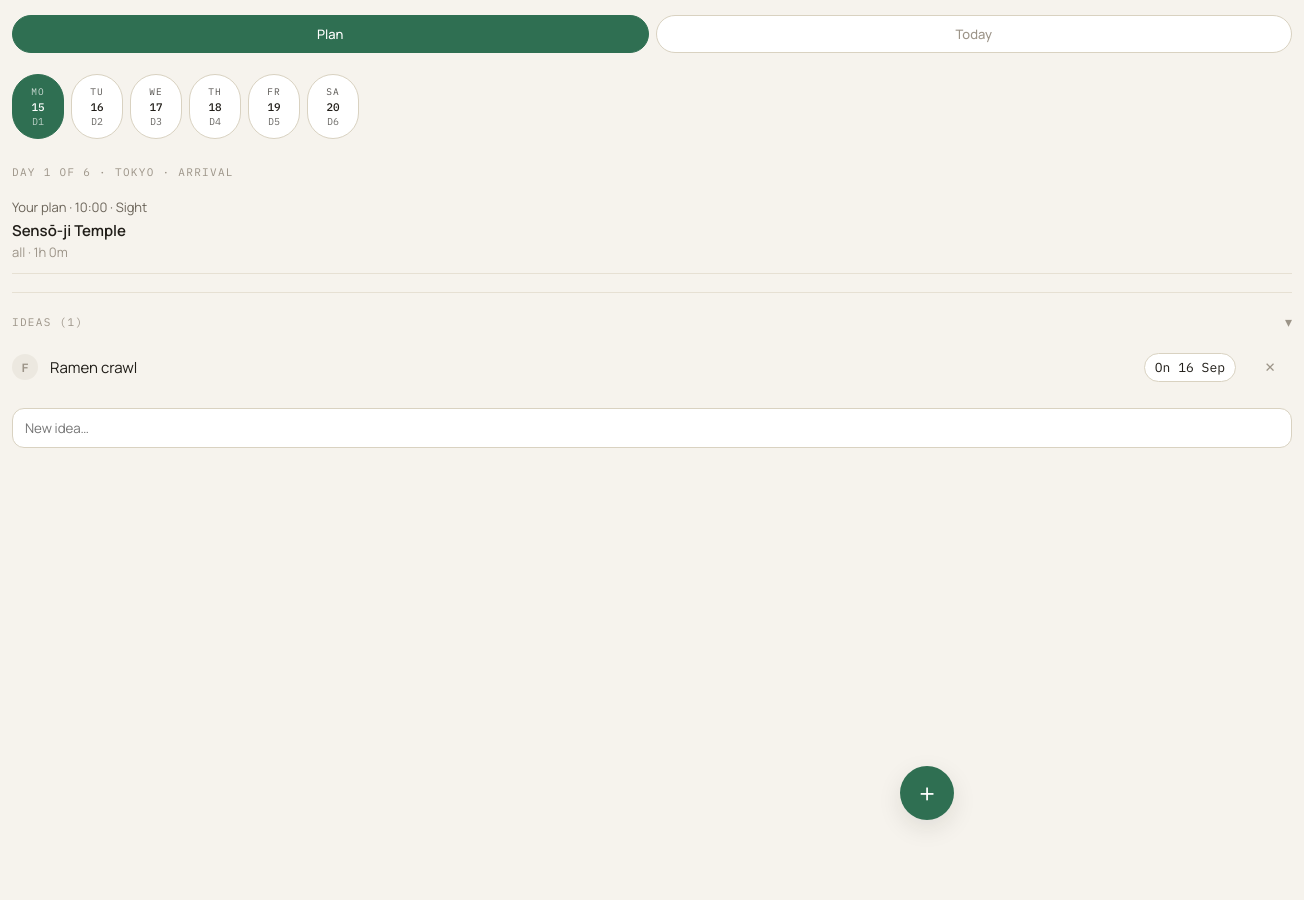
Scenario: ItineraryTab — Idea assignment obeys the same Stop validation as manual Stop creation › 1. a valid Idea on a valid day is assigned: the Stop is created and the Idea is removed
The image size is (1304, 900).
Step 1. Click the button "On 16 Sep" → (1190, 367), box [1144,352,1236,382]
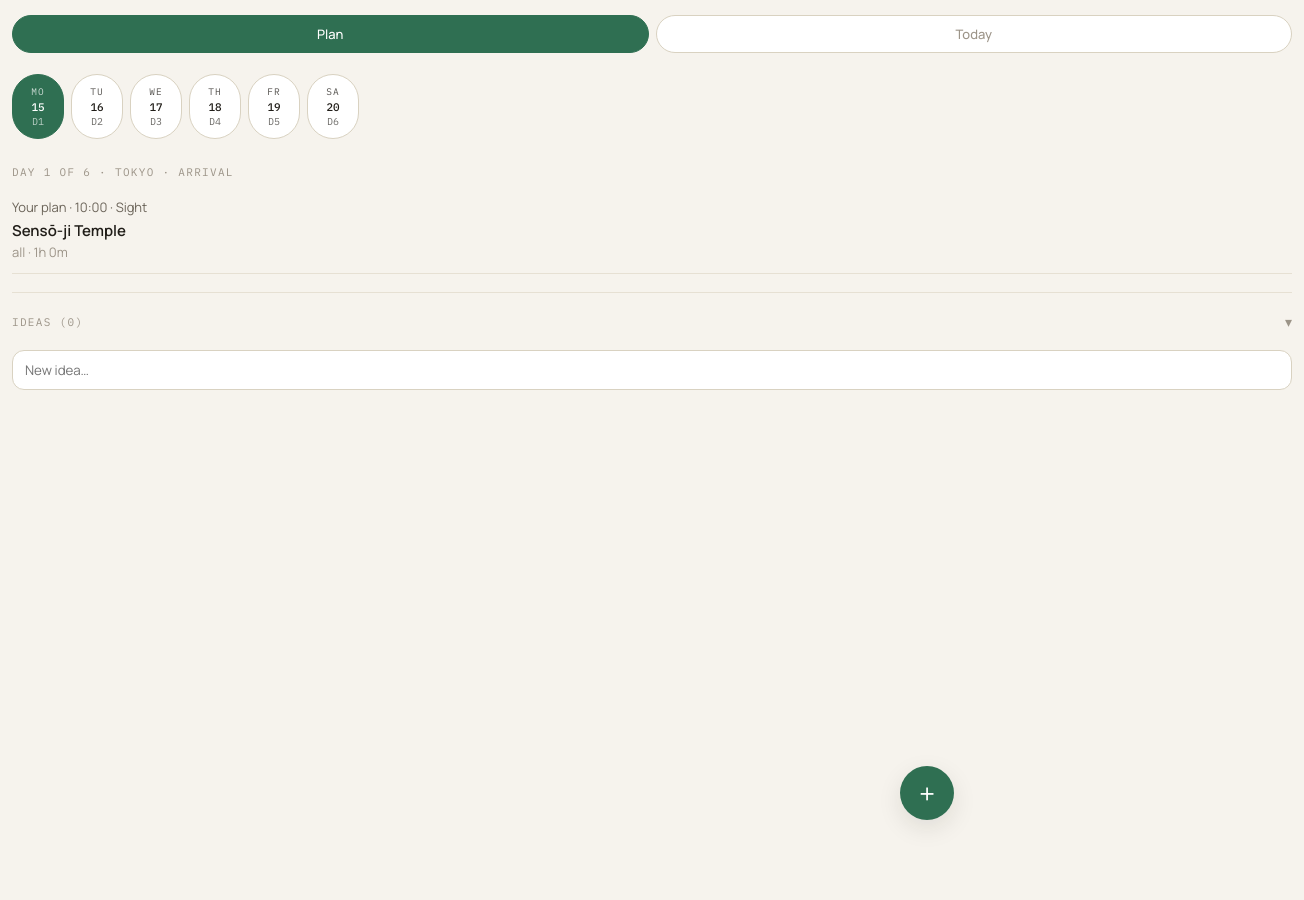
Expected: the text "Ramen crawl" is gone
Step 2. Click the tab "Tu 16 D2" → (97, 106), box [71,74,123,139]
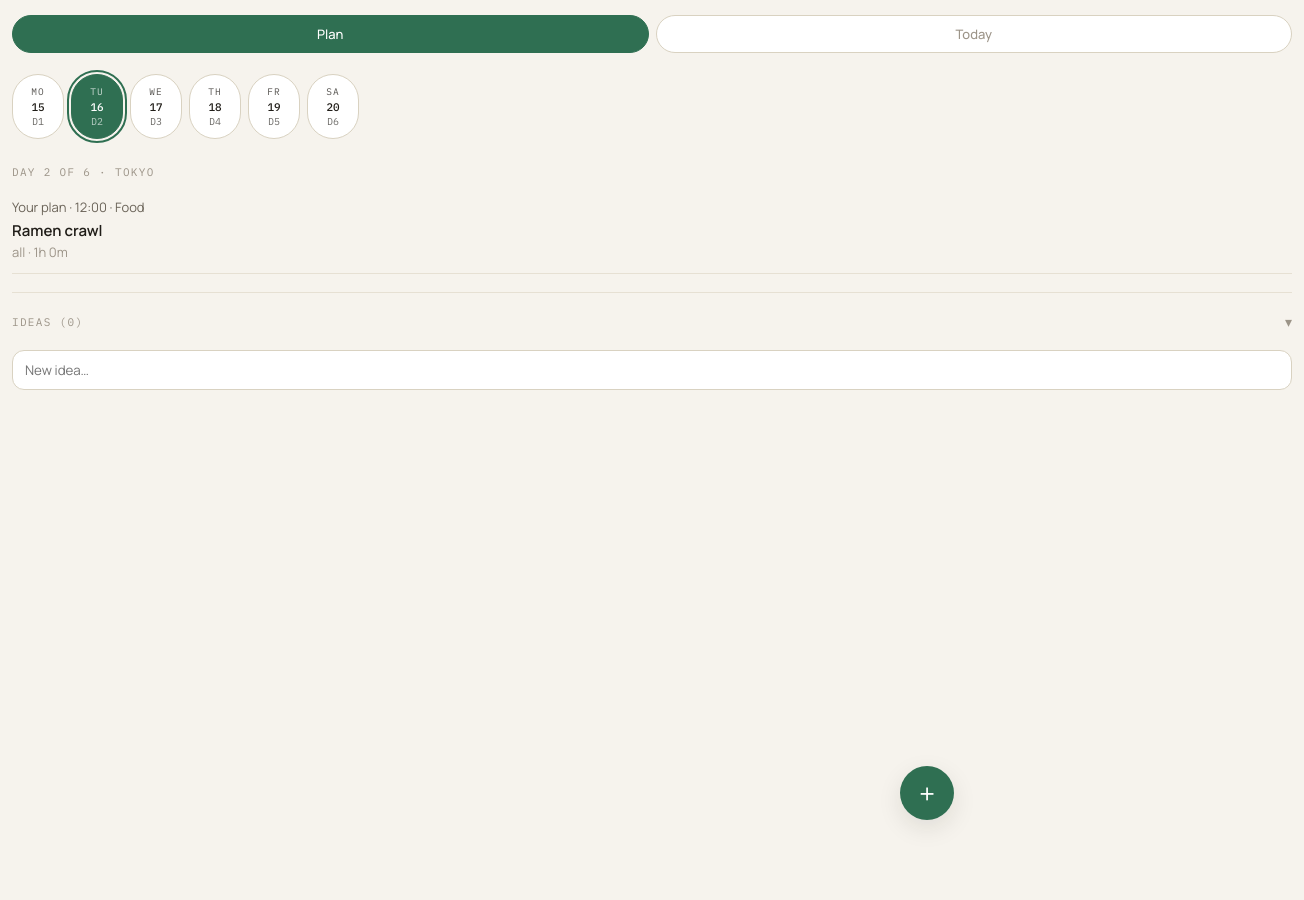
Expected: the button with aria-label "Open Ramen crawl" is shown, [12,186,1292,274]
